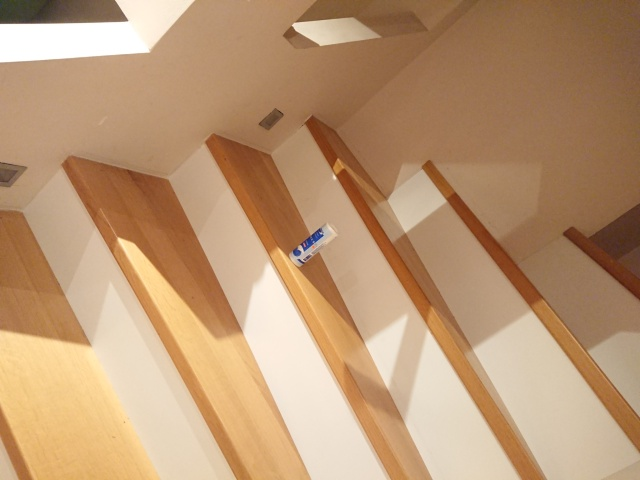Solana Pag Fine Sea Salt 250g: (287, 219, 342, 269)
